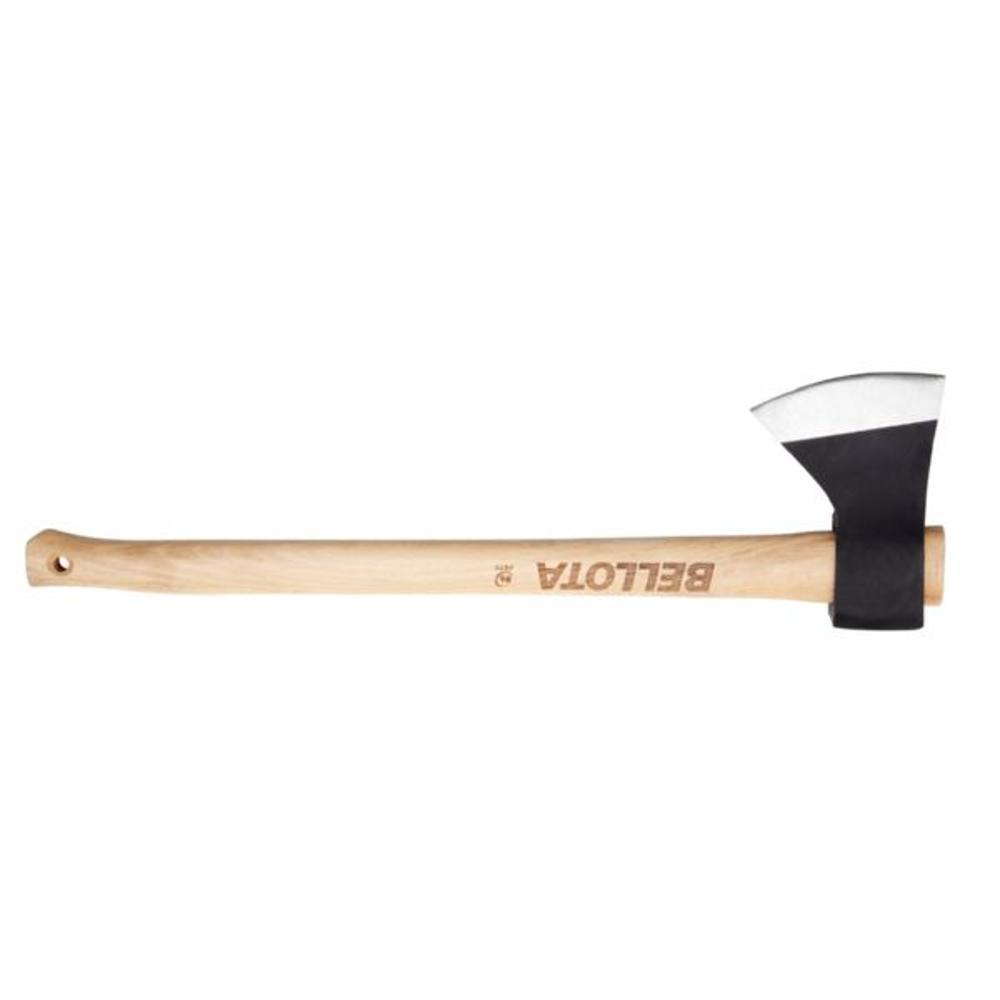machado: (26, 373, 943, 629)
